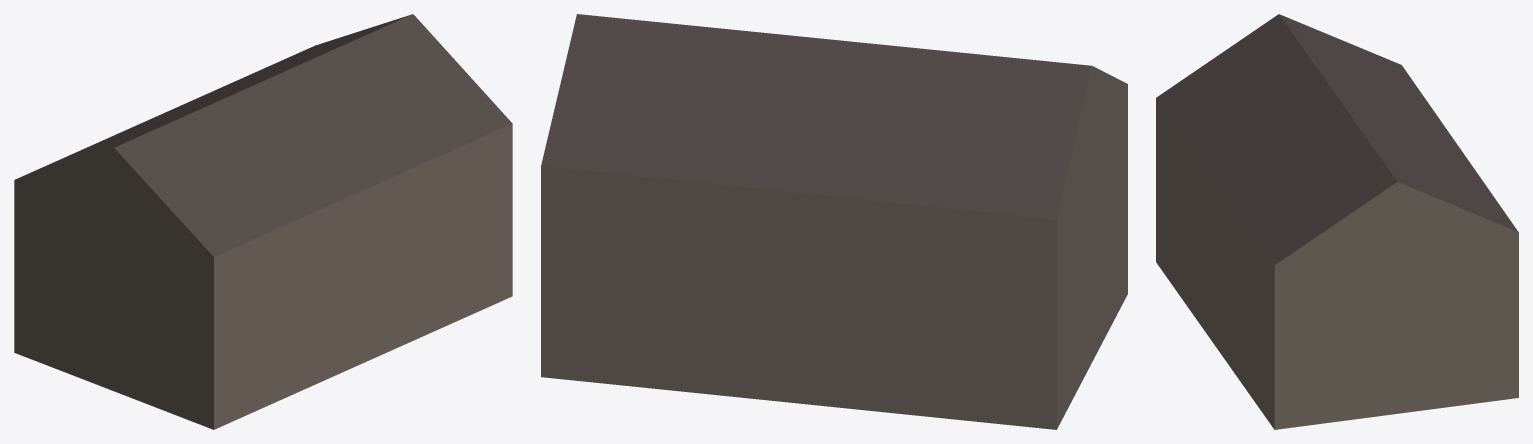
3 renders of one model, left to right at view 1: azimuth 30°, elevation 25°; view 2: azimuth 150°, elevation 25°; view 3: azimuth 270°, elevation 25°, orthographic. The views are drawn at different scales.
Visible parts, largest first — view 1: HP-w1198840872; view 2: HP-w1198840872; view 3: HP-w1198840872.
Boxes of the visible parts, bbox=[...] form: HP-w1198840872: bbox=[14, 14, 512, 429]; HP-w1198840872: bbox=[541, 14, 1127, 429]; HP-w1198840872: bbox=[1156, 14, 1518, 429].
Bounding box in the file's own units: 15.67 × 8.46 × 11.99.
